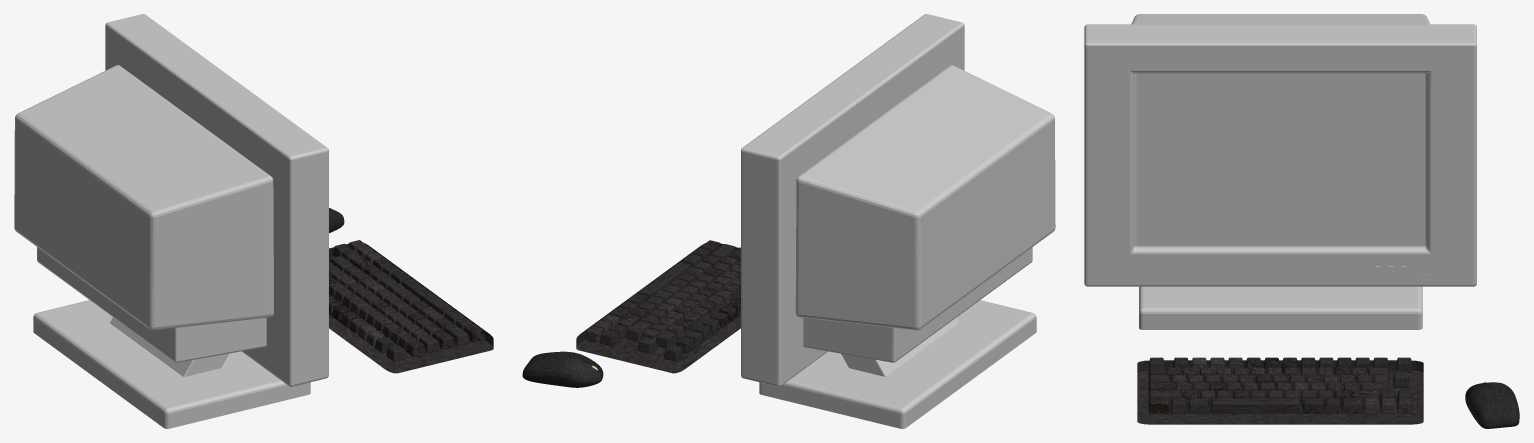
The model's file is full computer.obj.
3 views of the same model, side by side, from view 1: azimuth 30°, elevation 25°; view 2: azimuth 150°, elevation 25°; view 3: azimuth 270°, elevation 25° (orthographic). The views are drawn at different scales.
Visible parts, largest first — view 1: Cube.007, Cube.010; view 2: Cube.007, Cube.010, Cube; view 3: Cube.007, Cube.010, Cube.
Boxes of the visible parts, <box> form: Cube.007: <box>14,14,328,428</box>; Cube.010: <box>329,240,493,373</box>; Cube.007: <box>741,14,1055,428</box>; Cube.010: <box>576,240,740,373</box>; Cube: <box>522,351,603,387</box>; Cube.007: <box>1084,14,1476,329</box>; Cube.010: <box>1137,357,1423,424</box>; Cube: <box>1465,382,1519,428</box>.
Bounding box in the file's own units: 8.96 × 6.34 × 8.87.
